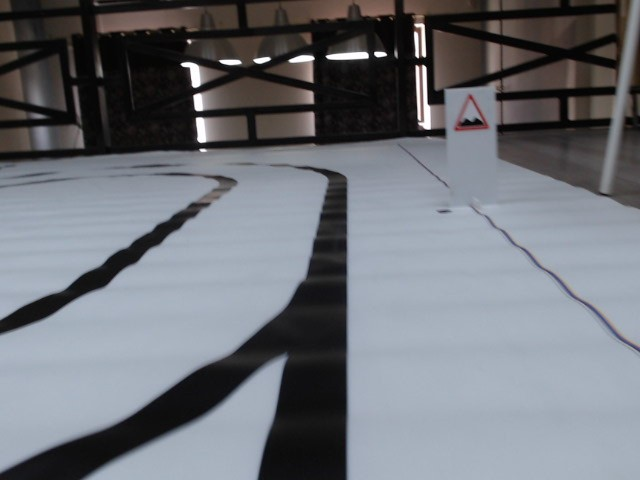Nerov: (450, 93, 491, 134)
